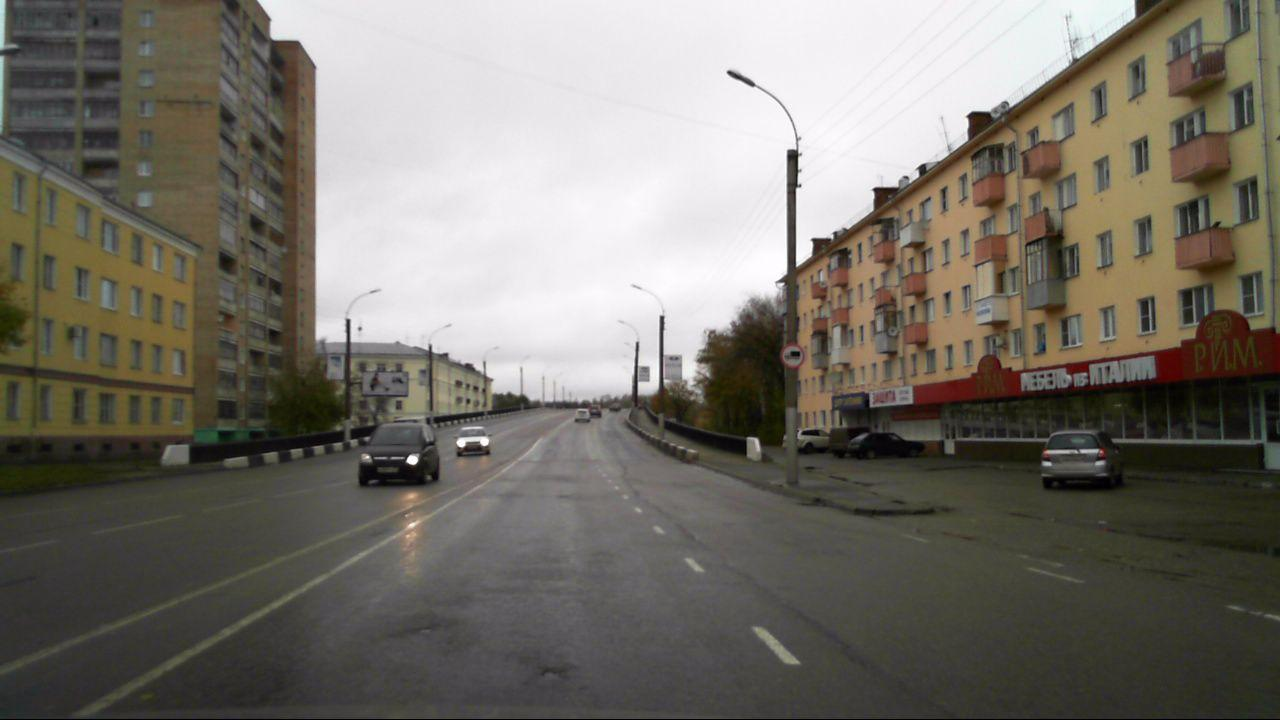road_sign: (778, 343, 805, 369)
